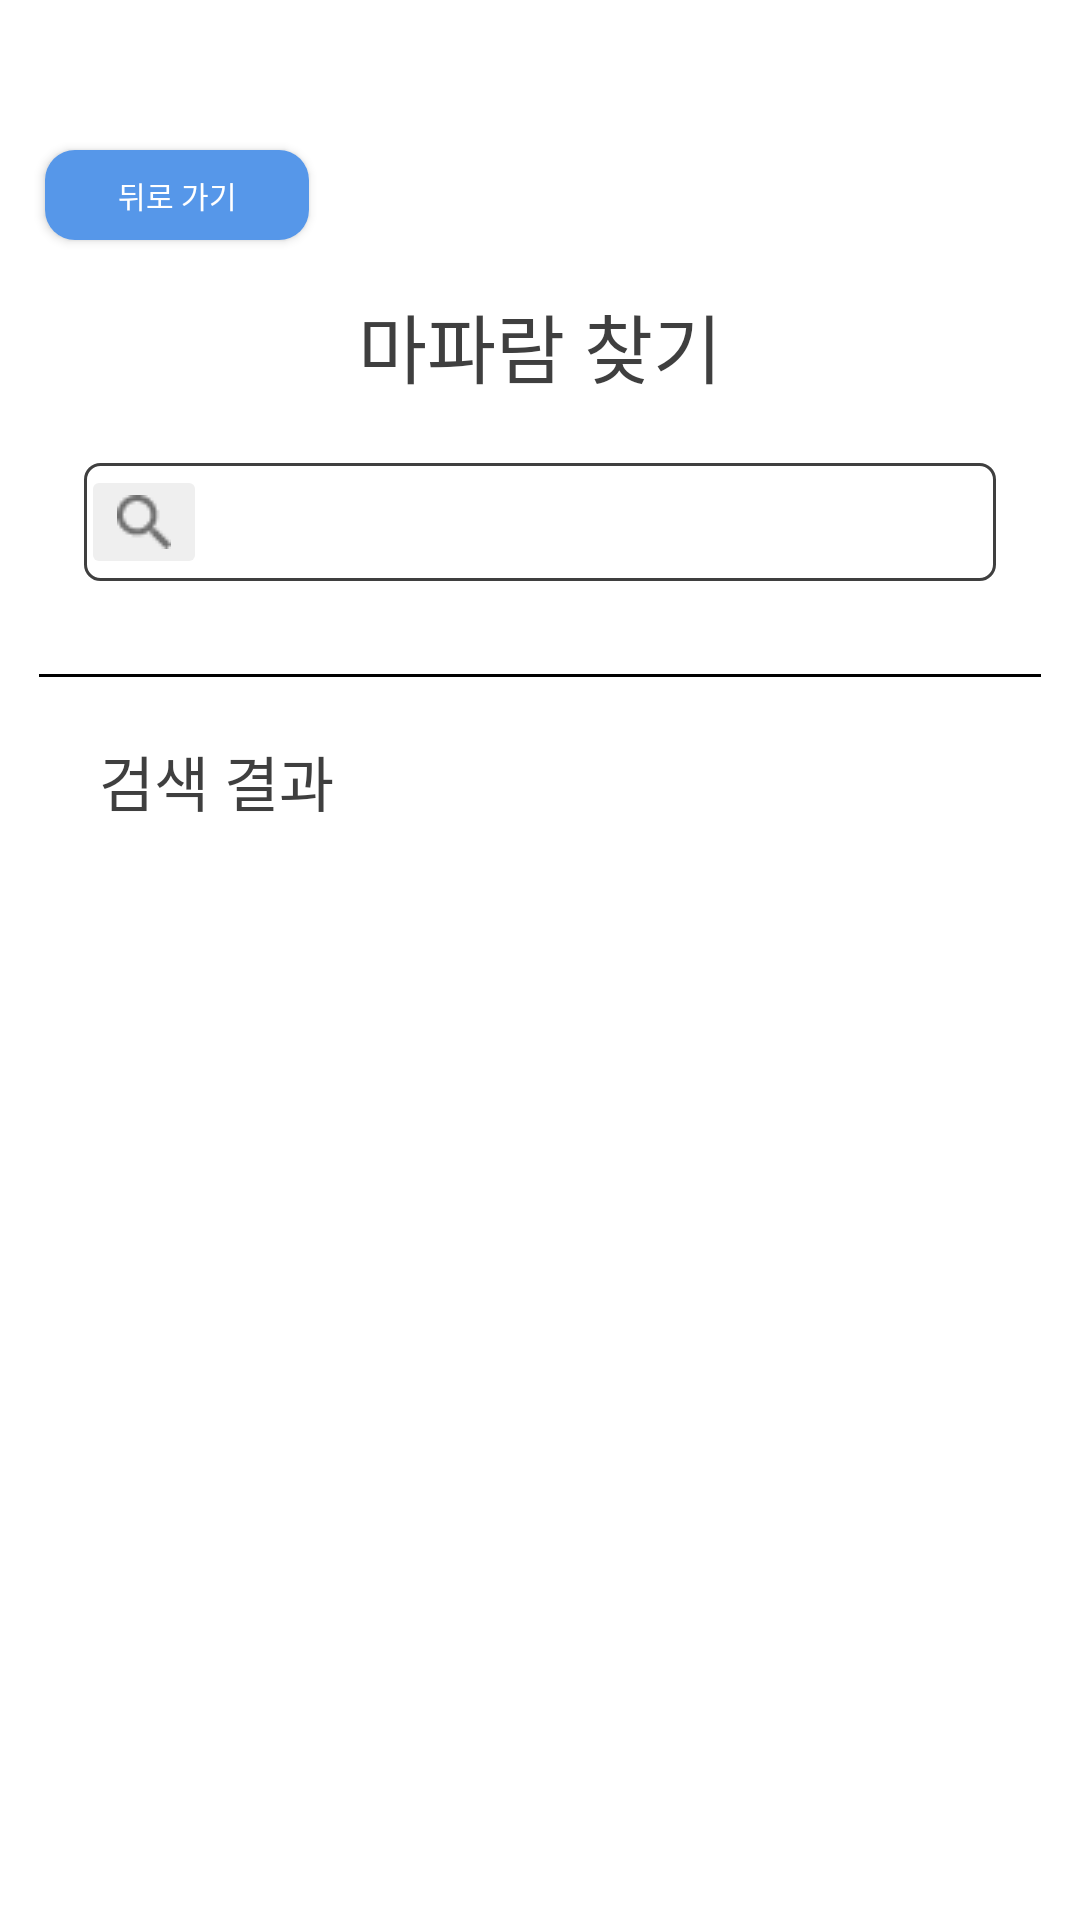

Icon click points for this 1080px×1920px phone screenshot, format [x,y]:
search: [144,522]
